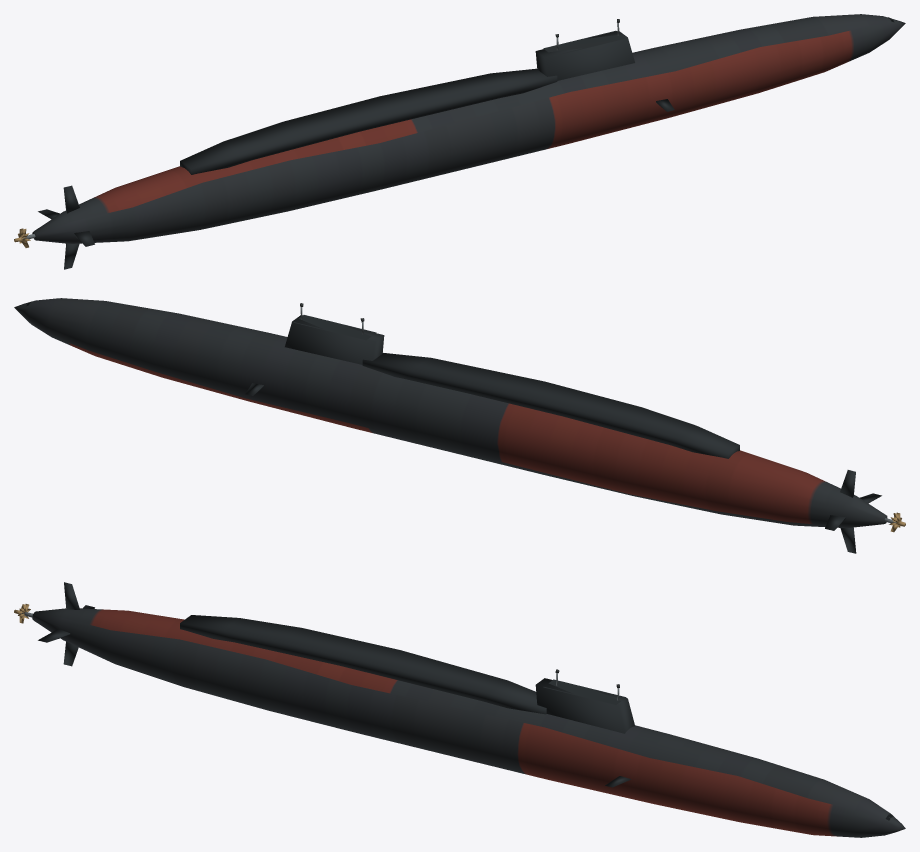
Rendered from RU_SSBN_DeltaIII_LOD3.fbx.
The picture shows the model from 3 angles, top to bottom: view 1: azimuth 30°, elevation 25°; view 2: azimuth 150°, elevation 25°; view 3: azimuth 330°, elevation 25°; orthographic projection.
Parts seen in each view (by area): view 1: RU_SSBN_DeltaIII_LOD3; view 2: RU_SSBN_DeltaIII_LOD3; view 3: RU_SSBN_DeltaIII_LOD3.
Boxes of the visible parts, x1,y1,x2,y2 form: RU_SSBN_DeltaIII_LOD3: (14, 14, 905, 269); RU_SSBN_DeltaIII_LOD3: (14, 298, 905, 553); RU_SSBN_DeltaIII_LOD3: (14, 582, 905, 837).
Size of the model in its own units: 170 by 20.56 by 20.91.
6 materials, 1 textured.
